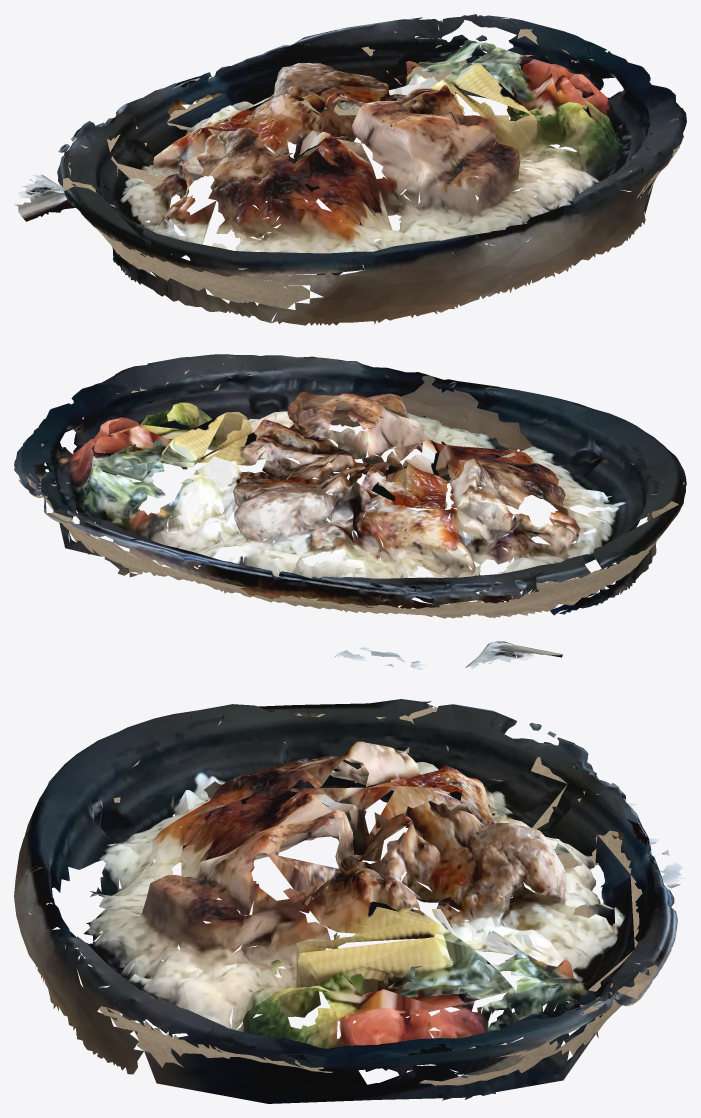
The model's file is jerk-chicken.glb.
The picture shows the model from 3 angles, top to bottom: view 1: azimuth 30°, elevation 25°; view 2: azimuth 150°, elevation 25°; view 3: azimuth 270°, elevation 25°; orthographic projection. The views are drawn at different scales.
Parts seen in each view (by area): view 1: Object_4, Object_3, Object_2, Object_5; view 2: Object_4, Object_3, Object_2, Object_5; view 3: Object_4, Object_3, Object_2, Object_5.
Boxes of the visible parts, x1,y1,x2,y2 form: Object_4: (18,15,685,322); Object_3: (14,17,683,325); Object_2: (59,15,686,308); Object_5: (57,14,684,306); Object_4: (31,354,686,660); Object_3: (14,354,643,670); Object_2: (14,363,685,618); Object_5: (25,355,671,615); Object_4: (17,701,686,1070); Object_3: (14,716,677,1100); Object_2: (92,699,671,1103); Object_5: (25,704,650,1087).
Size of the model in its own units: 0.24 by 0.0443 by 0.1905.
4 materials, 4 textured.
